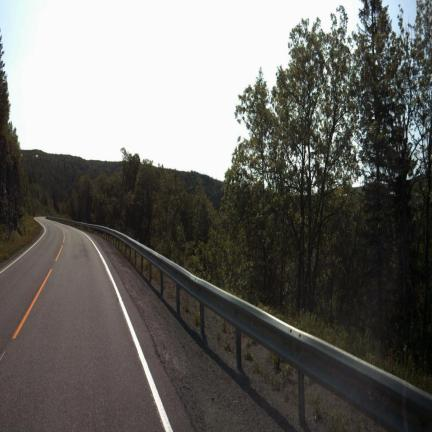Road: (0, 218, 170, 430)
